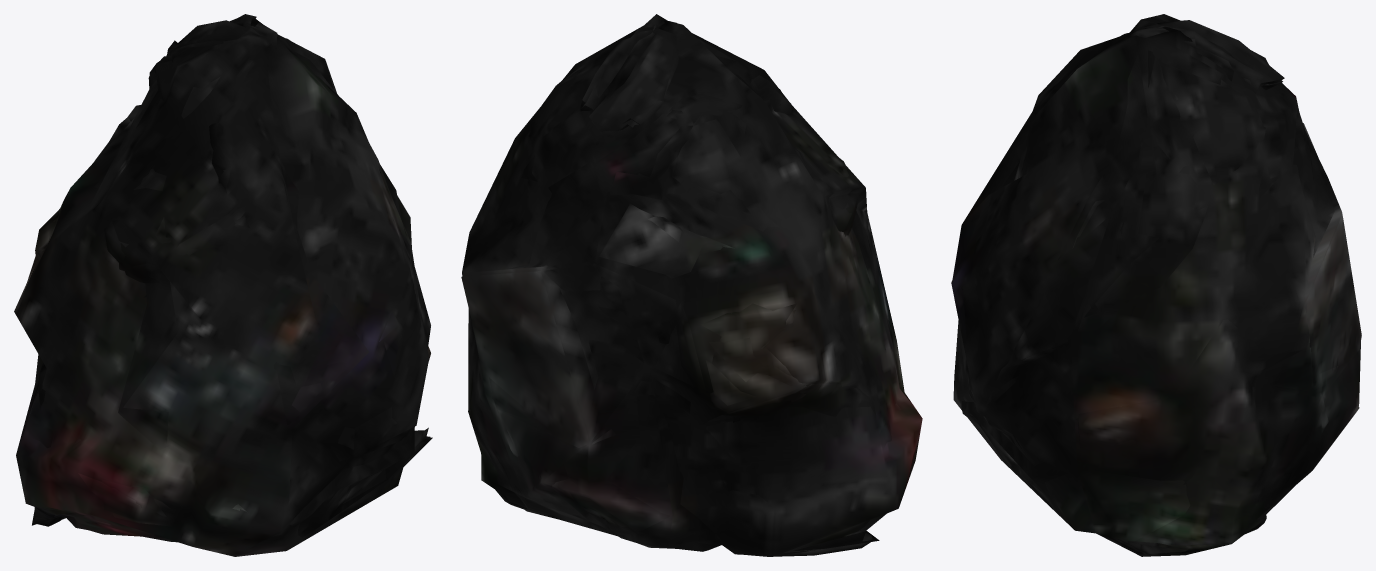
Rendered from imp-trash-bag.glb.
The picture shows the model from 3 angles, left to right: view 1: azimuth 30°, elevation 25°; view 2: azimuth 150°, elevation 25°; view 3: azimuth 270°, elevation 25°; orthographic projection. The views are drawn at different scales.
Visible parts, largest first — view 1: trashbag (×3); view 2: trashbag (×3); view 3: trashbag (×3).
Boxes of the visible parts, x1=… form: trashbag (×3): x1=14, y1=14, x2=432, y2=556; trashbag (×3): x1=461, y1=14, x2=922, y2=556; trashbag (×3): x1=951, y1=14, x2=1361, y2=556.
Size of the model in its own units: 0.6479 by 0.7 by 0.57.
1 material, 1 textured.
